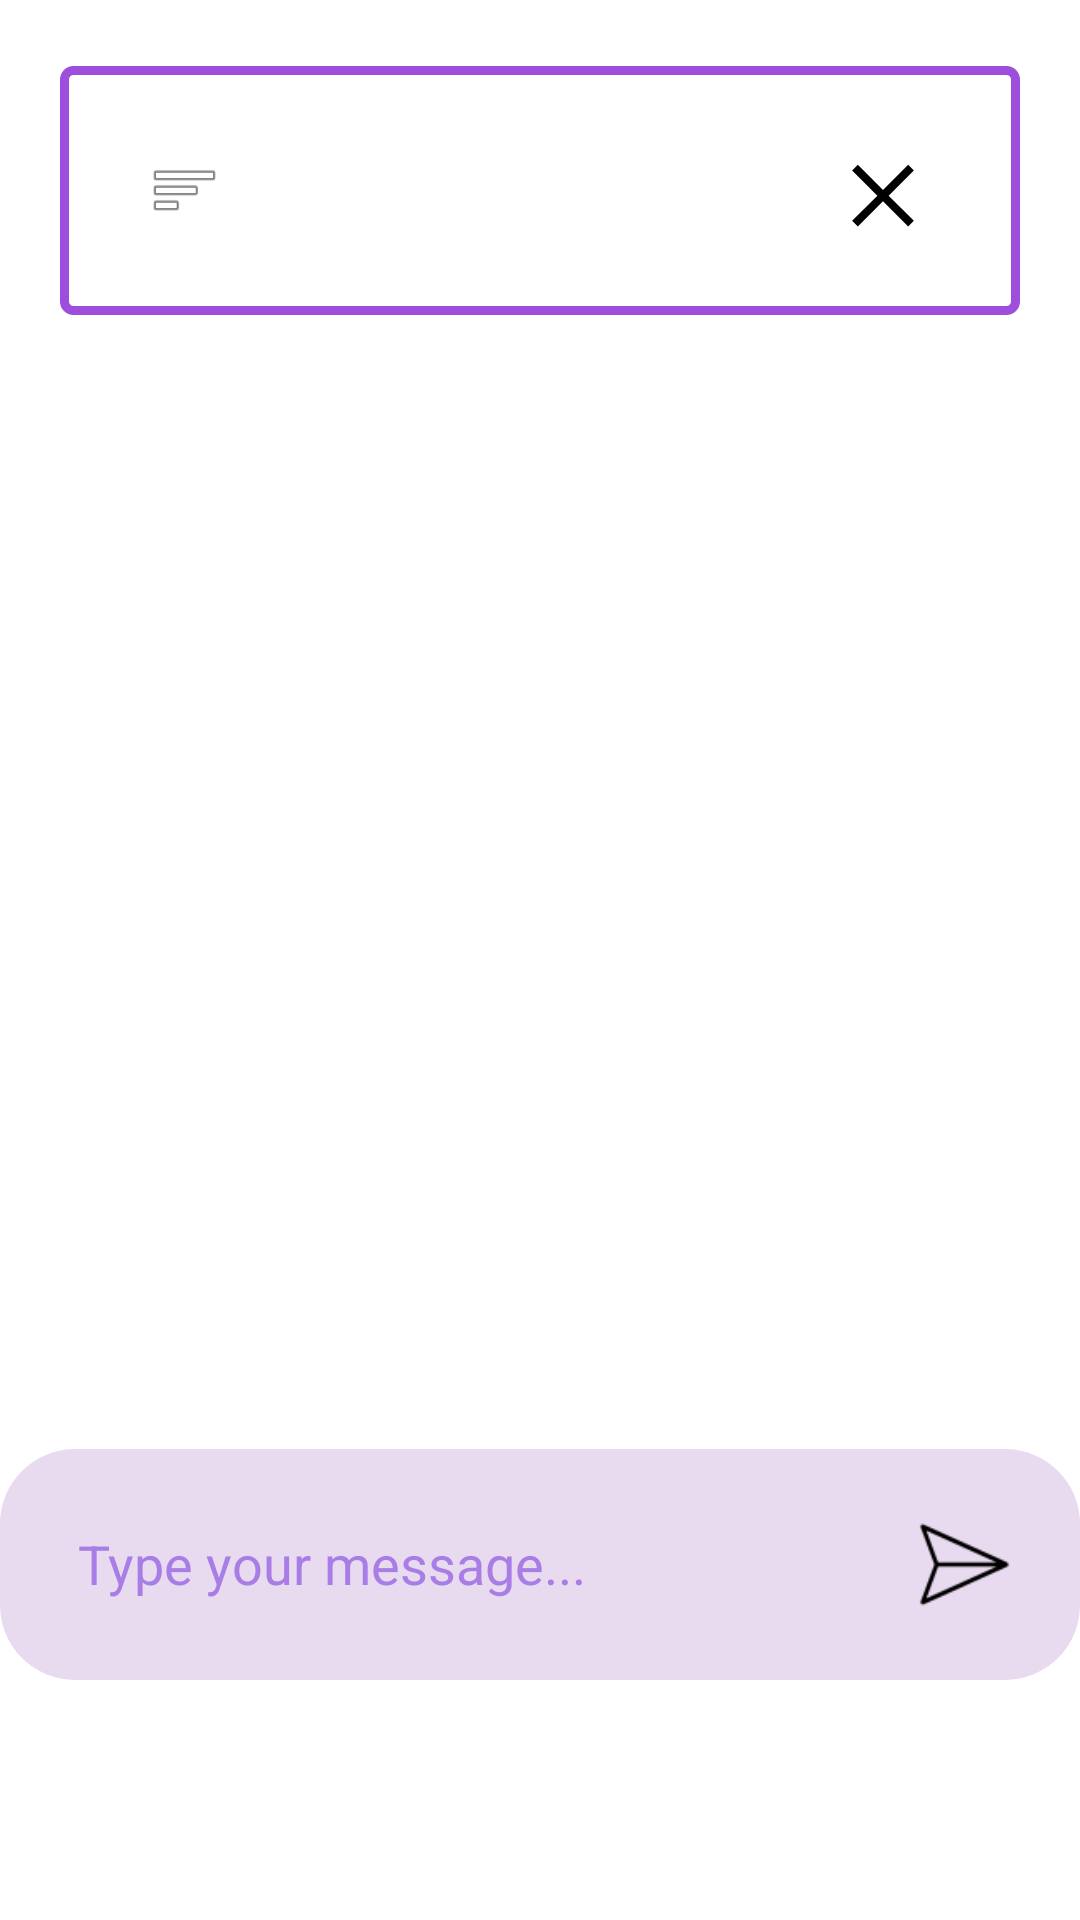

Icon click points for this 1080x1920 phone screenshot, format [x,y]:
closebutton: [883,196]
sendbtn: [964,1564]
sort by size: [184,190]
